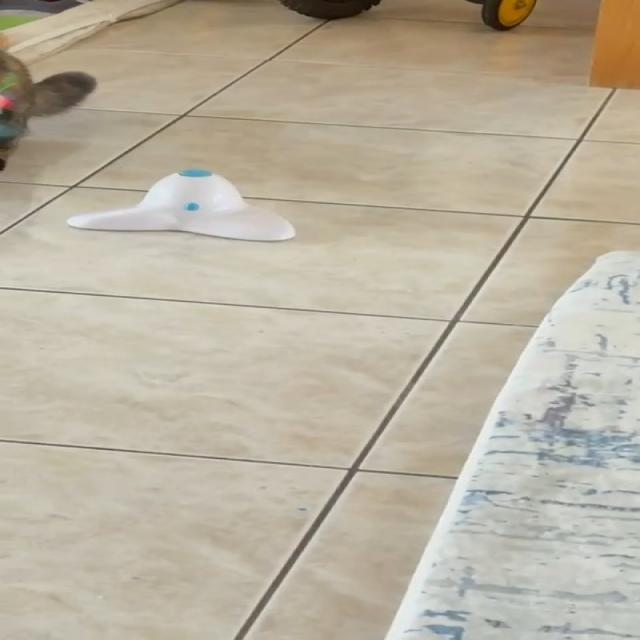authorized: (0, 30, 97, 170)
